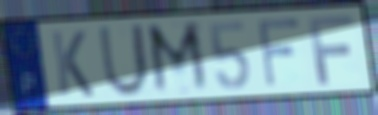5: (206, 18, 252, 92)
F: (306, 13, 357, 87), (255, 15, 303, 91)
K: (48, 28, 97, 98)
M: (144, 19, 214, 97)
U: (96, 22, 151, 99)
